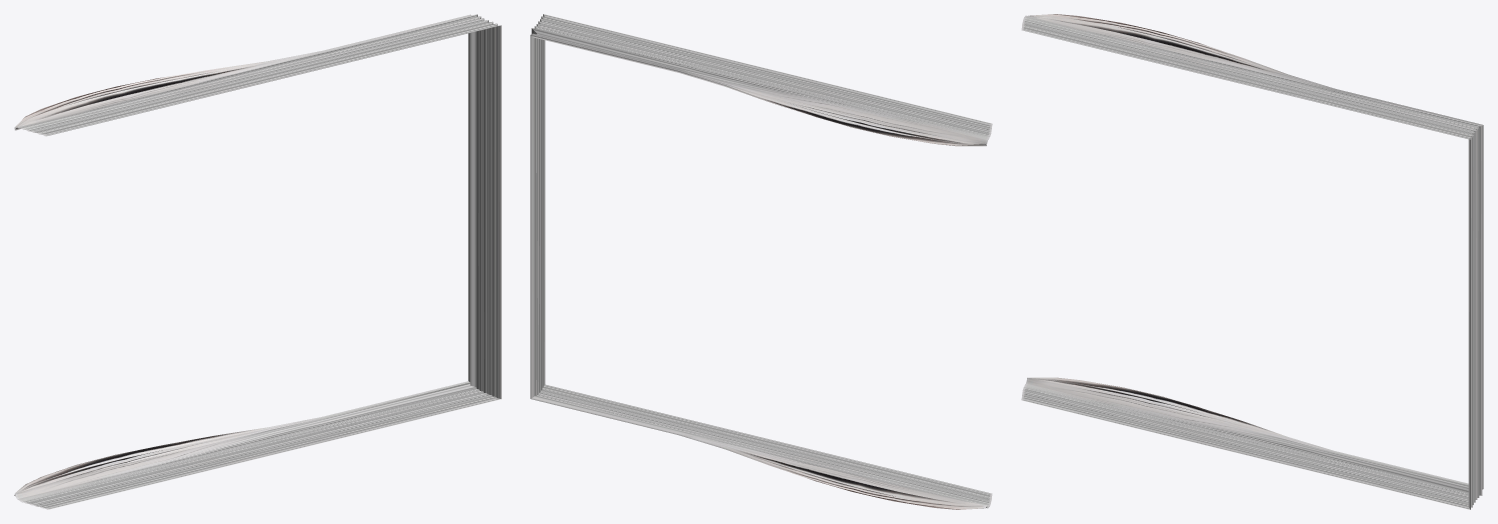
File: MeshBookFront_1_1_GeomSubset_0.obj
3 views of the same model, side by side, from view 1: azimuth 30°, elevation 25°; view 2: azimuth 150°, elevation 25°; view 3: azimuth 330°, elevation 25° (orthographic).
Visible parts, largest first — view 1: MeshBookFront_1_1_GeomSubset_0; view 2: MeshBookFront_1_1_GeomSubset_0; view 3: MeshBookFront_1_1_GeomSubset_0.
Boxes of the visible parts, x1,y1,x2,y2 form: MeshBookFront_1_1_GeomSubset_0: (14, 14, 501, 509); MeshBookFront_1_1_GeomSubset_0: (530, 14, 992, 509); MeshBookFront_1_1_GeomSubset_0: (1021, 14, 1483, 509).
Bounding box in the file's own units: 0.4241 × 0.3242 × 0.0576.
Materials: 1 (1 with a texture image).
